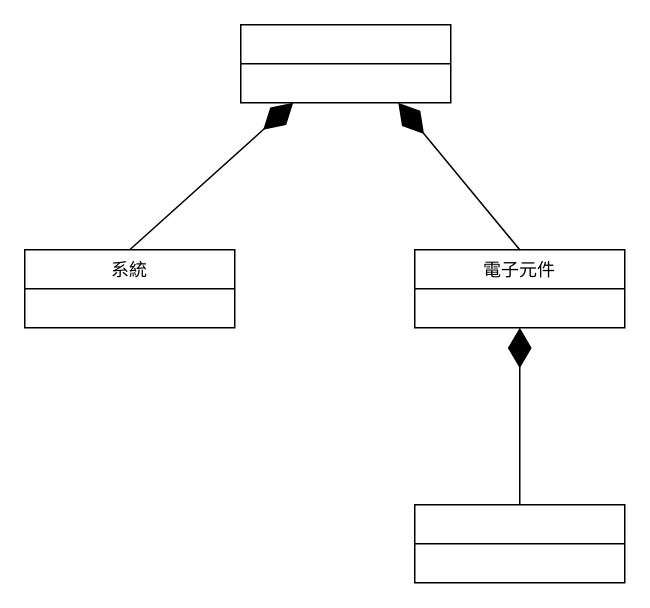
This 650x608 diagram has some shape labels left out. The centre of each missing label's shape, as x and y in pixels:
喇叭: (x=345, y=63)
外殼: (x=519, y=543)
